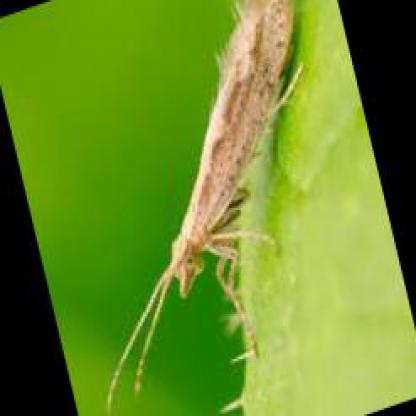plutella: (169, 7, 295, 293)
